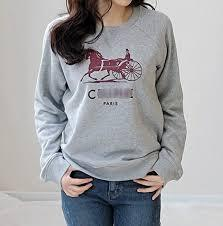sweater: (32, 5, 190, 190)
